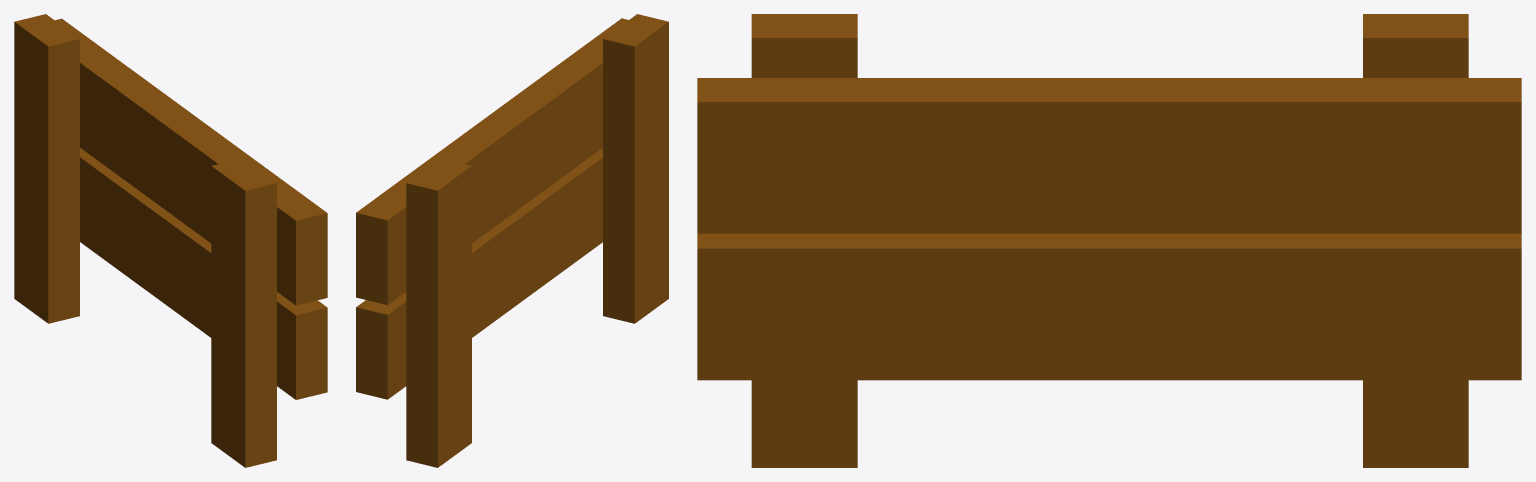
Rendered from fences01.glb.
The picture shows the model from 3 angles, left to right: view 1: azimuth 30°, elevation 25°; view 2: azimuth 150°, elevation 25°; view 3: azimuth 270°, elevation 25°; orthographic projection. The views are drawn at different scales.
Visible parts, largest first — view 1: Cube; view 2: Cube; view 3: Cube.
Part boxes in pixels (x1,y1,x2,y2): Cube: [14, 14, 327, 467]; Cube: [356, 14, 668, 467]; Cube: [697, 14, 1521, 467].
Size of the model in its own units: 0.3665 by 1.5 by 2.61.
